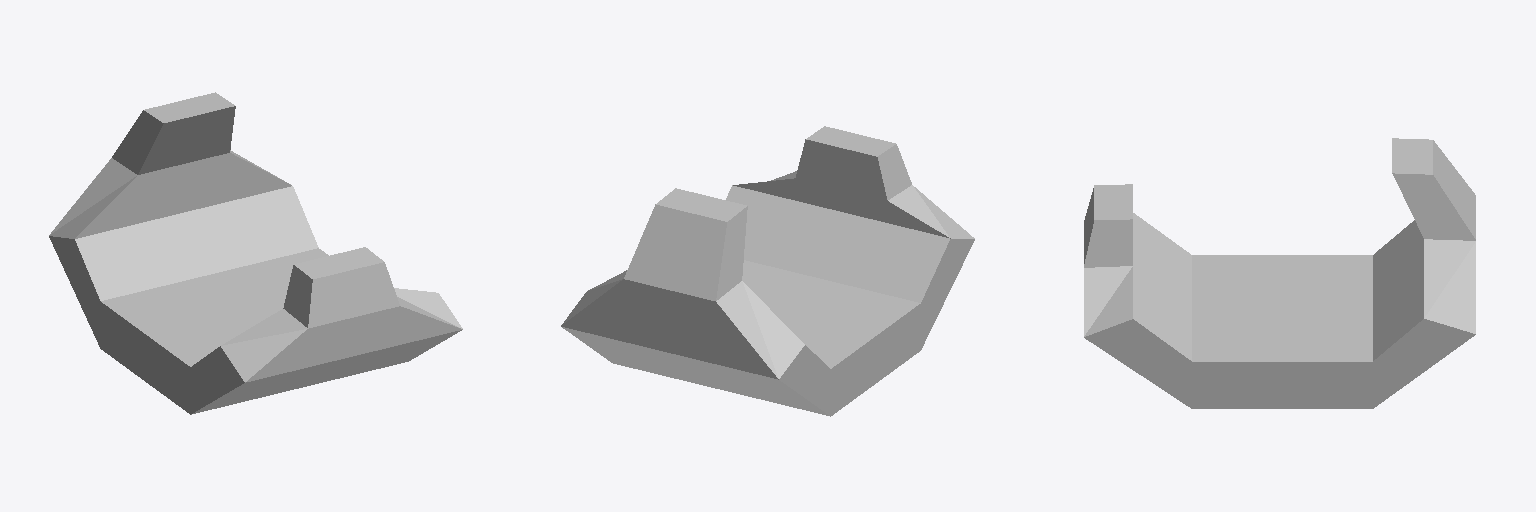
File: Catwalk5.obj
3 views of the same model, side by side, from view 1: azimuth 30°, elevation 25°; view 2: azimuth 150°, elevation 25°; view 3: azimuth 270°, elevation 25° (orthographic).
Parts seen in each view (by area): view 1: Catwalk5; view 2: Catwalk5; view 3: Catwalk5.
Part boxes in pixels (x1,y1,x2,y2): Catwalk5: (49, 92, 462, 414); Catwalk5: (561, 126, 974, 416); Catwalk5: (1084, 138, 1475, 408).
Size of the model in its own units: 6.35 by 5.57 by 9.89.